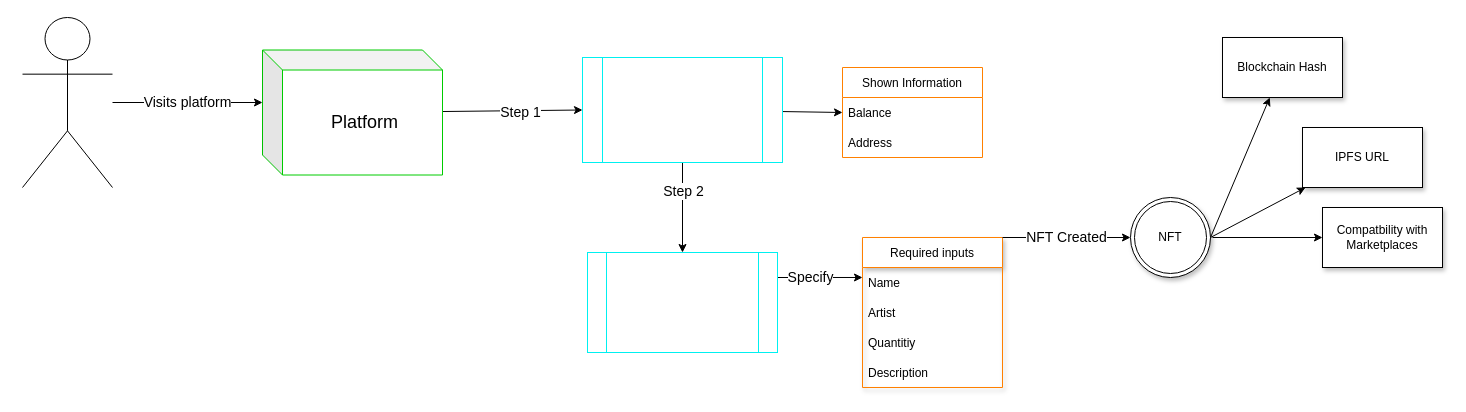
The diagram is 1466 pixels wide and 412 high, and some of its shapes have lost their labels. The centre of each missing label's shape, as x and y in pixels:
"Connect Wallet" goes at pixel 682 109.
"Mint" goes at pixel 682 302.
"NFT Creator" goes at pixel 67 102.
